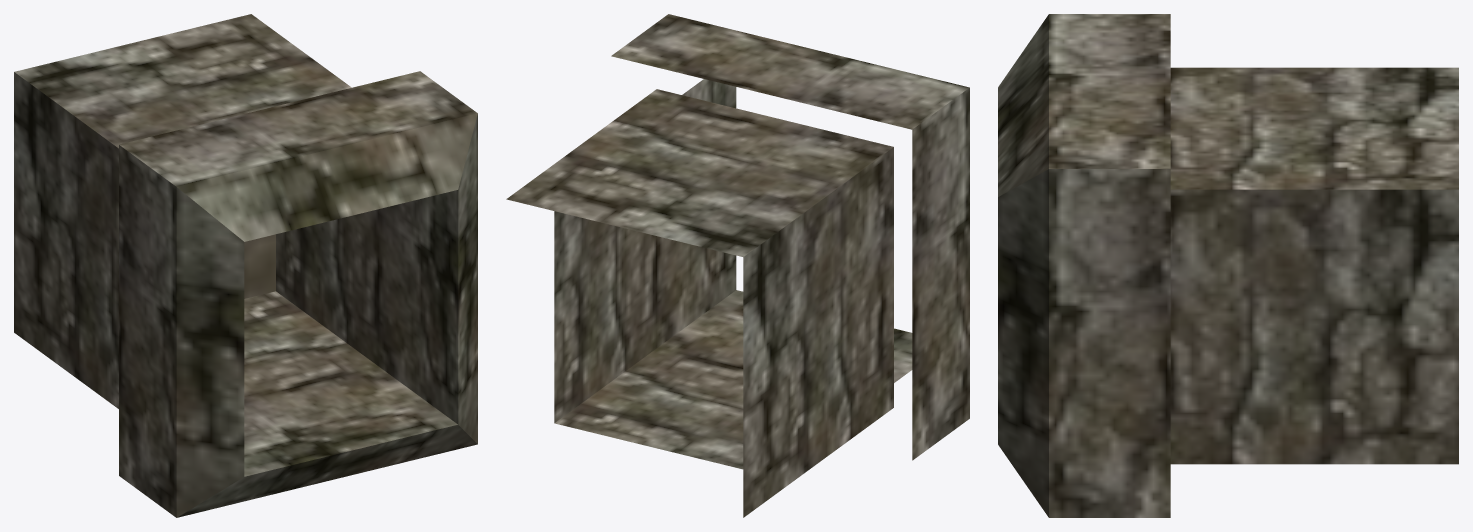
3 renders of one model, left to right at view 1: azimuth 30°, elevation 25°; view 2: azimuth 150°, elevation 25°; view 3: azimuth 270°, elevation 25°, orthographic. The views are drawn at different scales.
Visible parts, largest first — view 1: model_Object97; view 2: model_Object97; view 3: model_Object97.
Boxes of the visible parts, left/top/right/bottom form: model_Object97: left=14, top=14, right=477, bottom=517; model_Object97: left=506, top=14, right=969, bottom=517; model_Object97: left=998, top=14, right=1458, bottom=517.
Size of the model in its own units: 0.6779 by 0.7118 by 0.8517.
Materials: 1 (1 with a texture image).
